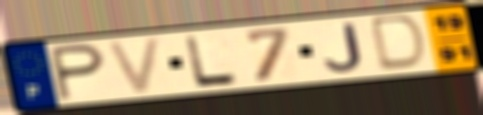7: (244, 25, 295, 84)
D: (370, 13, 430, 73)
J: (321, 21, 367, 74)
L: (181, 34, 243, 88)
P: (47, 42, 108, 103)
V: (102, 35, 166, 97)
